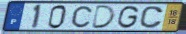0: (47, 4, 69, 29)
1: (30, 4, 42, 30)
C: (139, 6, 165, 30), (71, 5, 94, 29)
D: (90, 5, 117, 30)
G: (116, 5, 141, 30)
